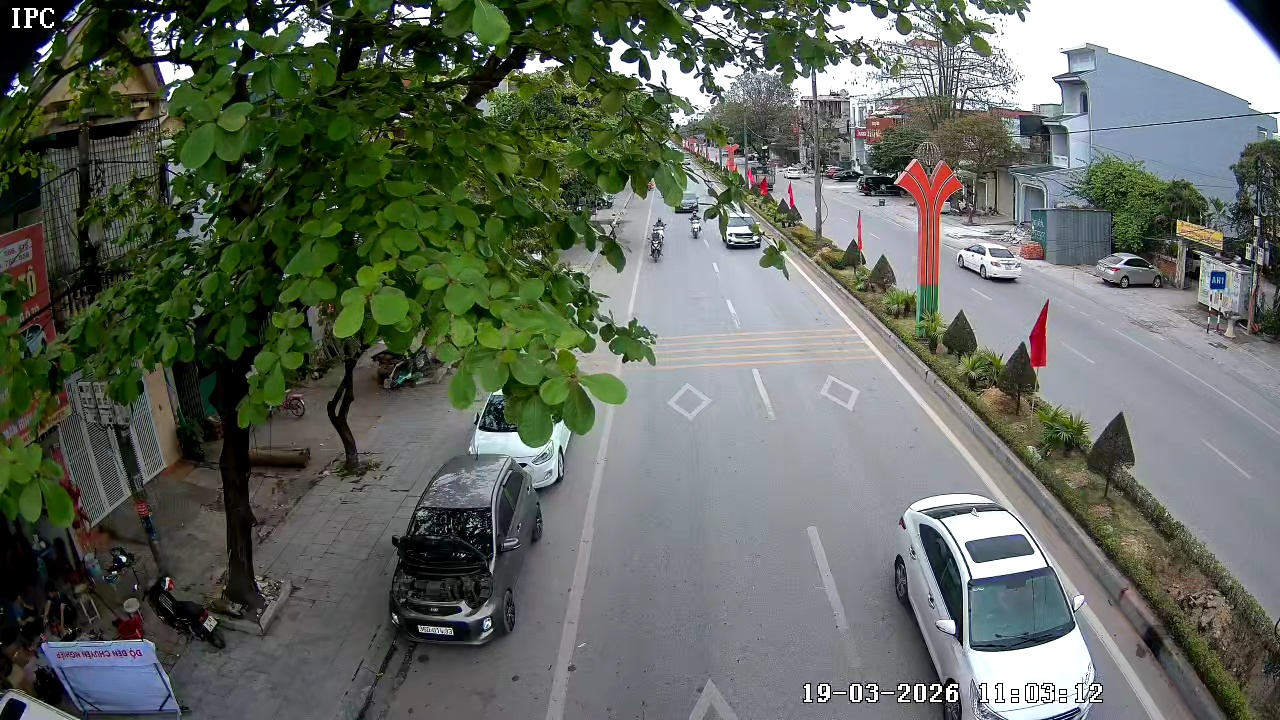car: (890, 492, 1105, 719), (388, 452, 545, 646), (469, 389, 572, 493), (956, 239, 1022, 282), (1094, 250, 1165, 289), (720, 211, 763, 251)
motorbike: (648, 218, 667, 263), (688, 208, 703, 241)
